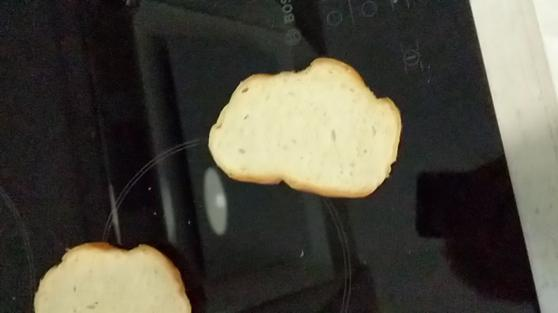white_bread: (204, 58, 410, 199), (29, 238, 206, 313)
